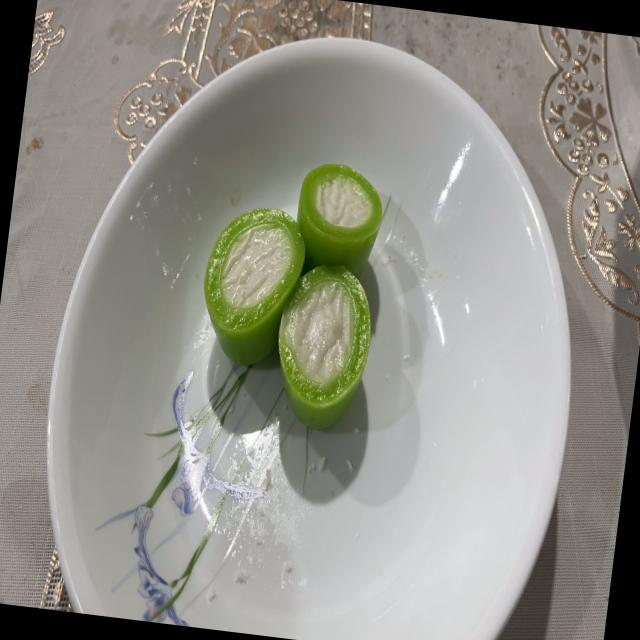nona-manis: (203, 208, 305, 365), (278, 264, 370, 429), (297, 163, 382, 278)
